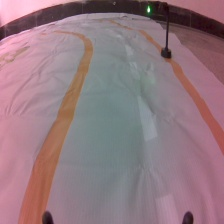green: (144, 1, 175, 61)
